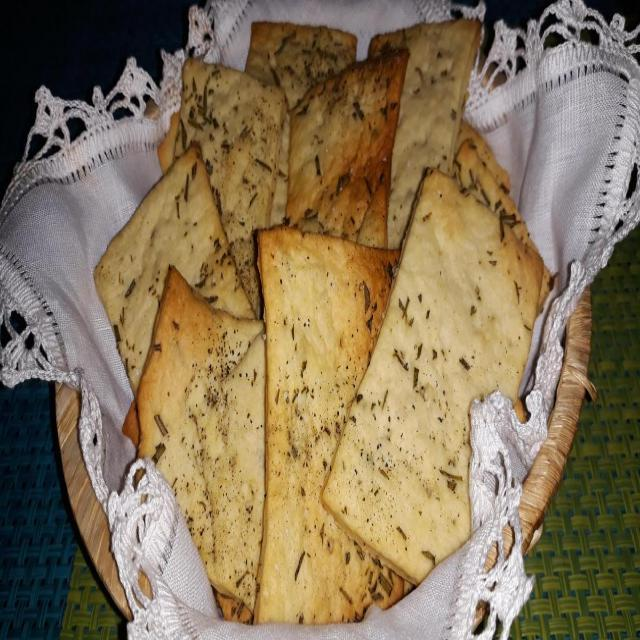Cracker: (333, 169, 547, 601), (242, 226, 422, 640)
